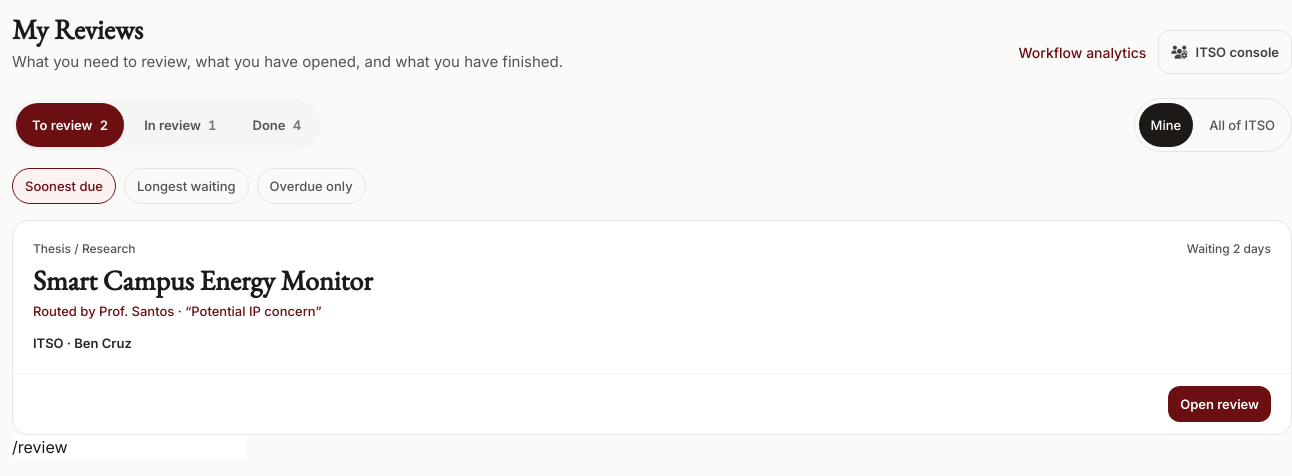
it: MyReviewsPage › lists the coordinator's whole office, with each seat's holder
The image size is (1292, 476).
What coordinates should you click on to do the following:
click the button "All of ITSO"
I would click on:
 (1242, 125)
Its box is [1197,103,1287,147].
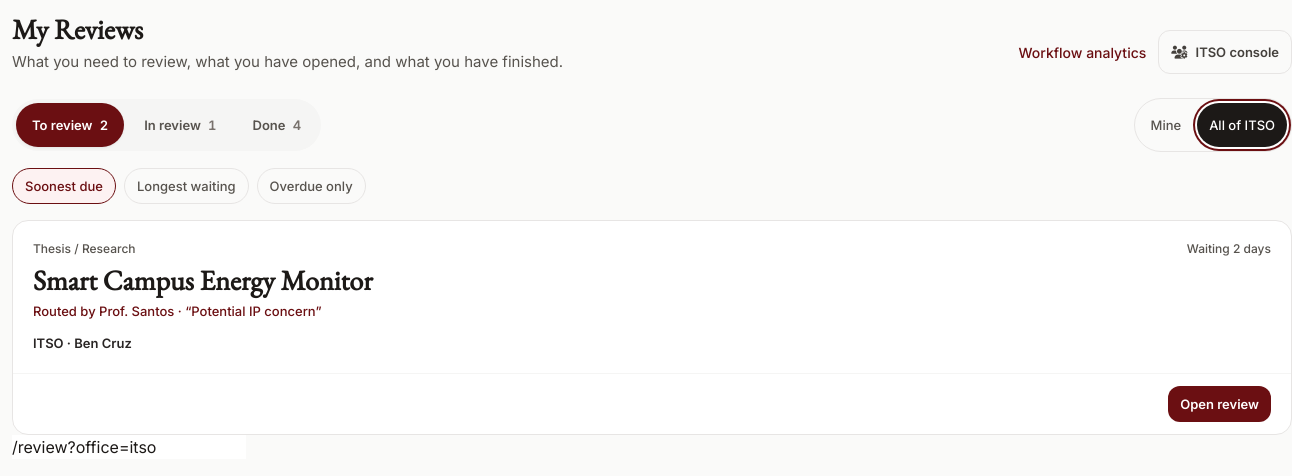
Expected: the text "ITSO · Ben Cruz" is shown, [33,333,132,353]
Expected: the field named "Location" holds "/review?office=itso", [12,435,246,459]
